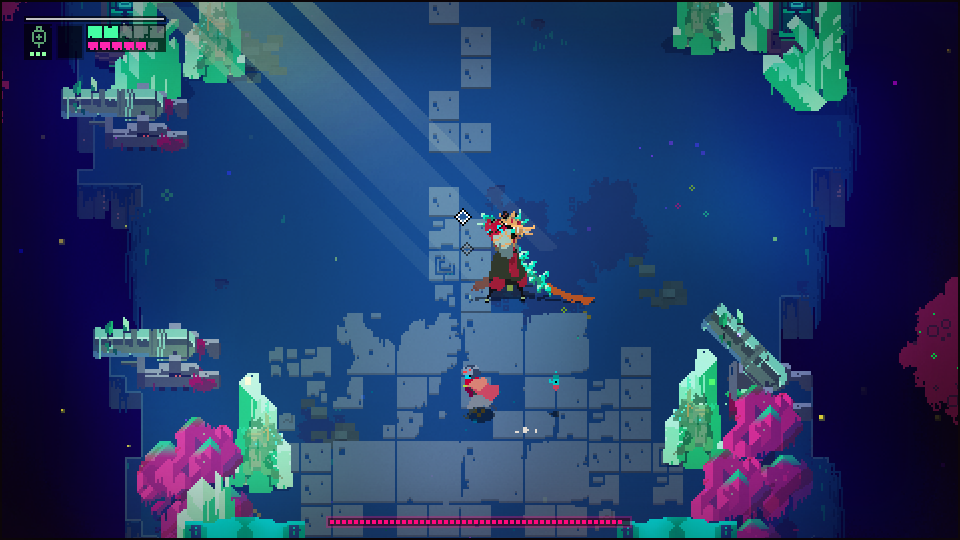hanged_man: (468, 206, 555, 306)
player: (461, 363, 500, 419)
